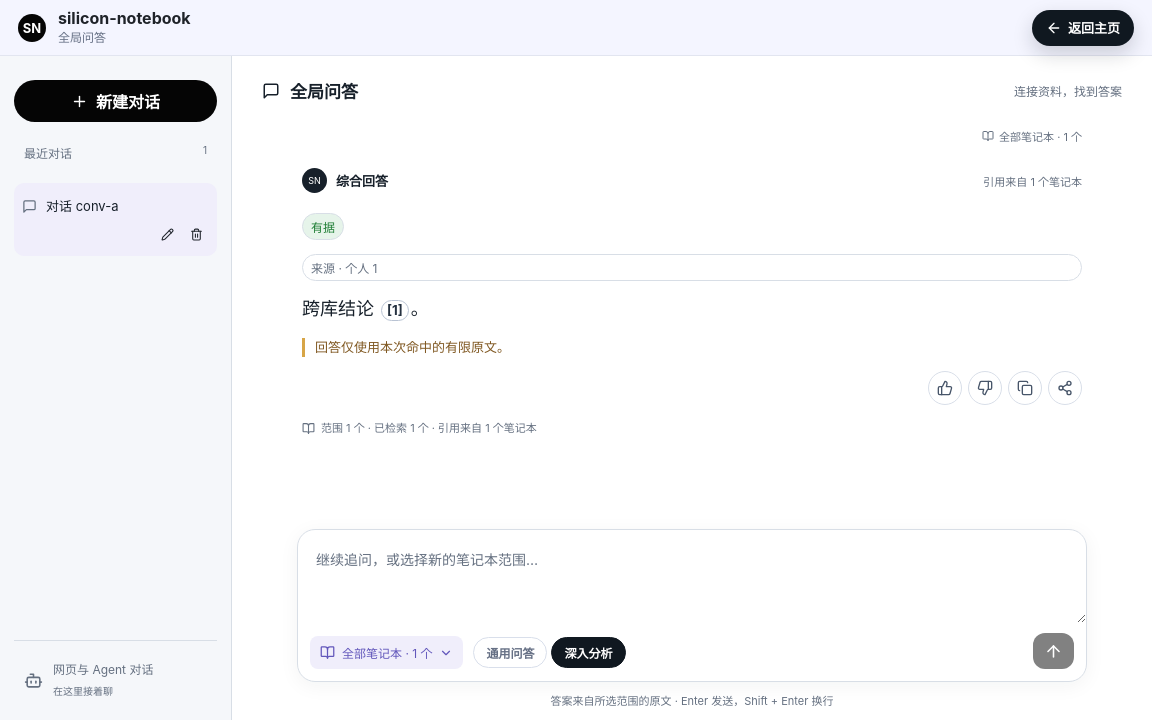
70 轮的会话：抬头与附图/记忆计数按 70 轮算，数字来自确数端点而不是翻页
The image size is (1152, 720).
(page scrolled)
Click the button named "分享到这条回答" at (1065, 388), box [1048,371,1082,405]
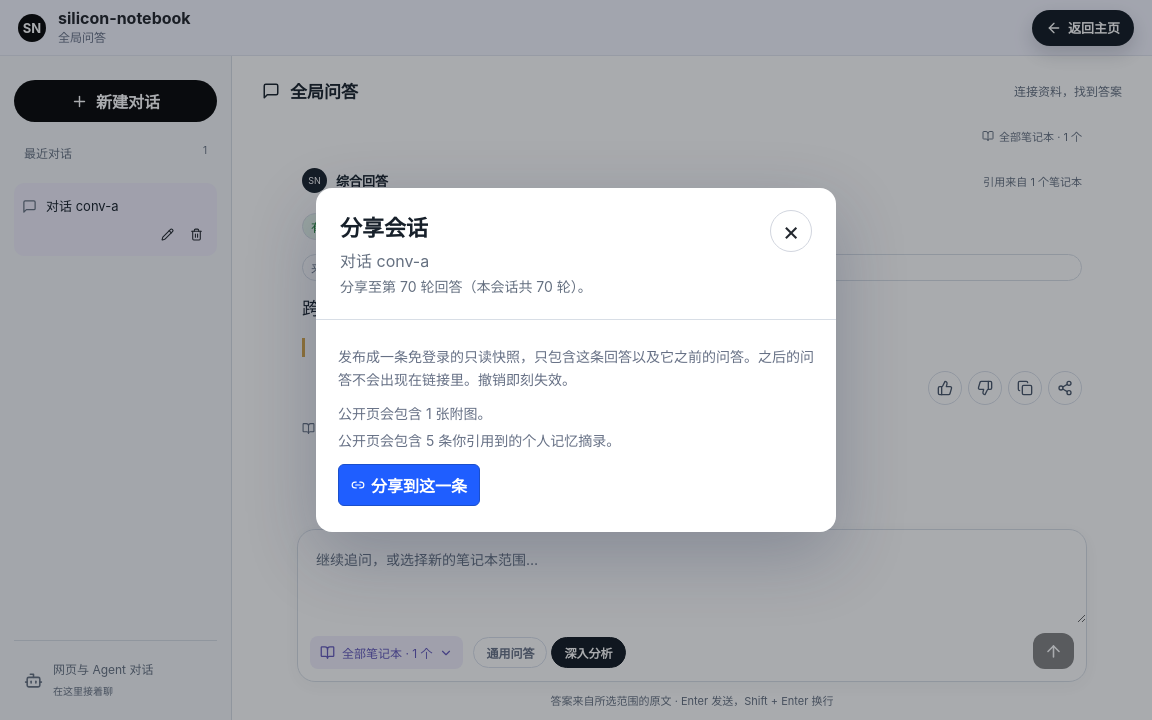
Expected: the heading "分享会话" is shown, [340,215,428,241]
Expected: the text "分享至第 70 轮回答（本会话共 70 轮）。" is shown, [340,277,592,298]
Expected: the text "公开页会包含 1 张附图。" is shown, [338,405,492,422]
